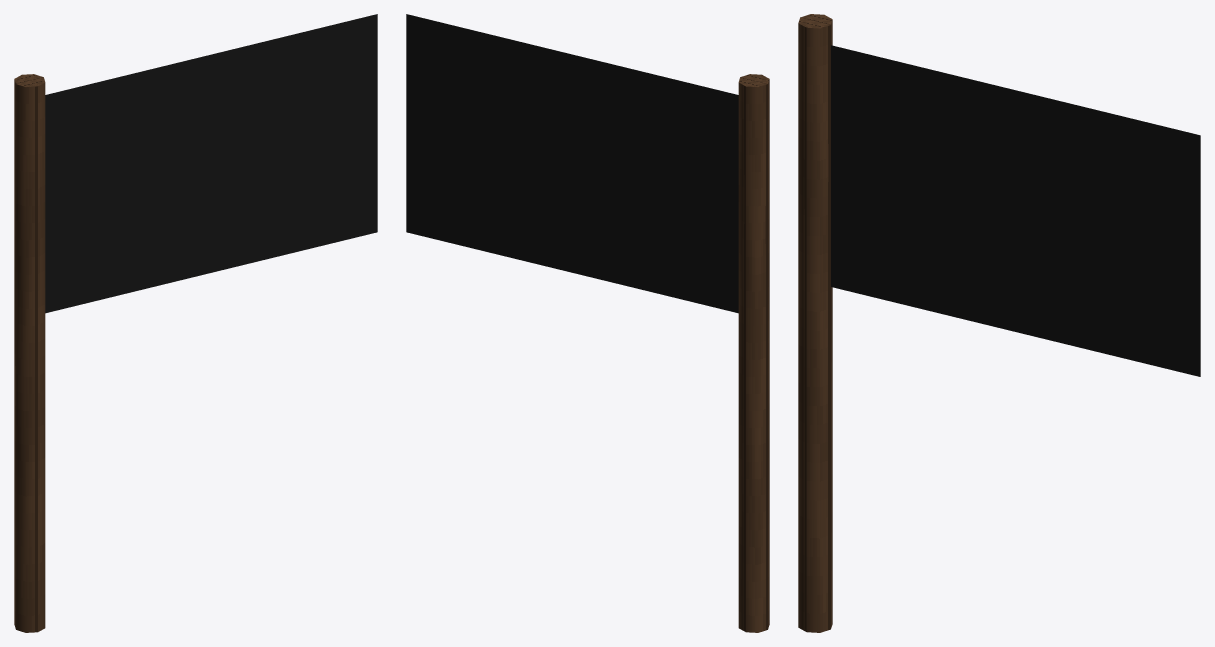
The model's file is bandera.glb.
3 renders of one model, left to right at view 1: azimuth 30°, elevation 25°; view 2: azimuth 150°, elevation 25°; view 3: azimuth 330°, elevation 25°, orthographic. The views are drawn at different scales.
Visible parts, largest first — view 1: bandera; view 2: bandera; view 3: bandera.
Part boxes in pixels (x1=…): bandera: x1=14, y1=14, x2=377, y2=632; bandera: x1=406, y1=14, x2=769, y2=632; bandera: x1=798, y1=14, x2=1200, y2=632.
Size of the model in its own units: 2.08 by 3 by 0.16.
2 materials, 1 textured.
